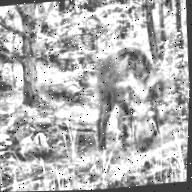boar: (83, 28, 174, 166)
